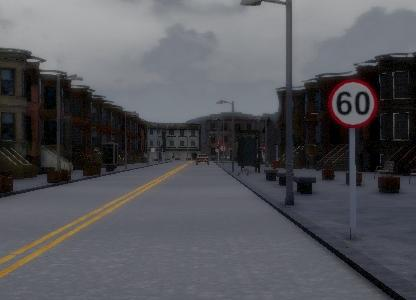Speed_60: (328, 74, 382, 129)
